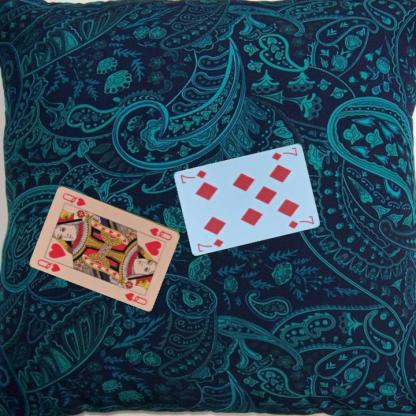7d: (269, 144, 299, 162), (195, 236, 224, 253)
Qh: (147, 224, 173, 242), (35, 256, 62, 273)
